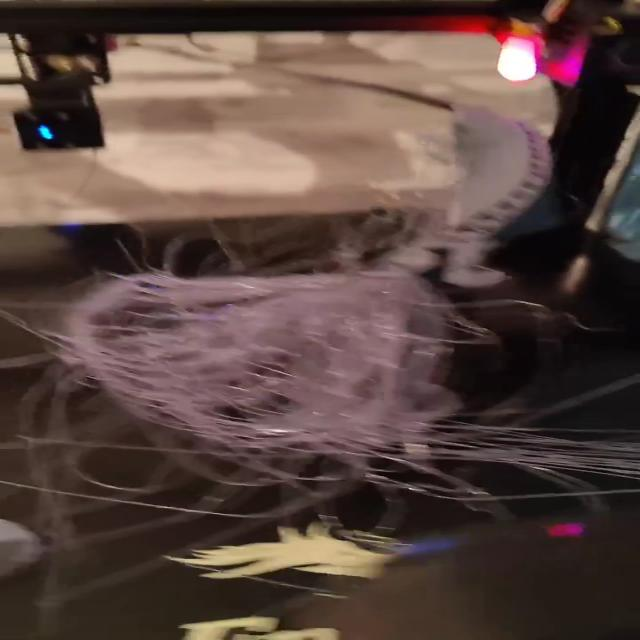spaghetti: (10, 210, 640, 548)
